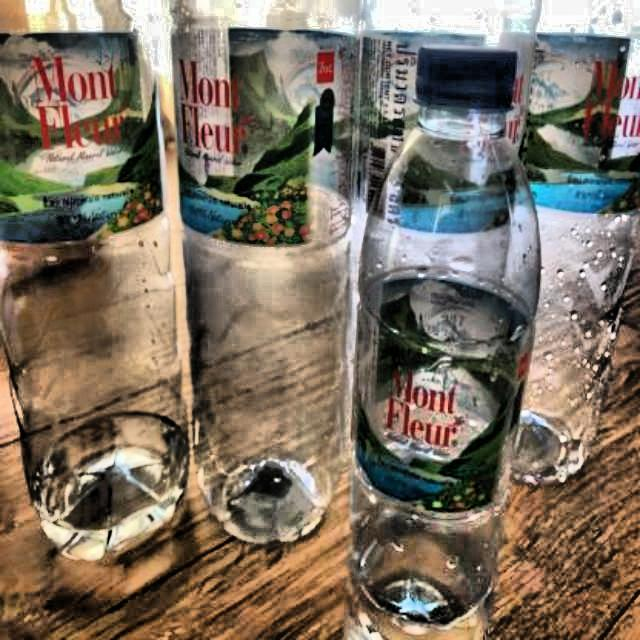Bottles: (339, 32, 542, 640)
